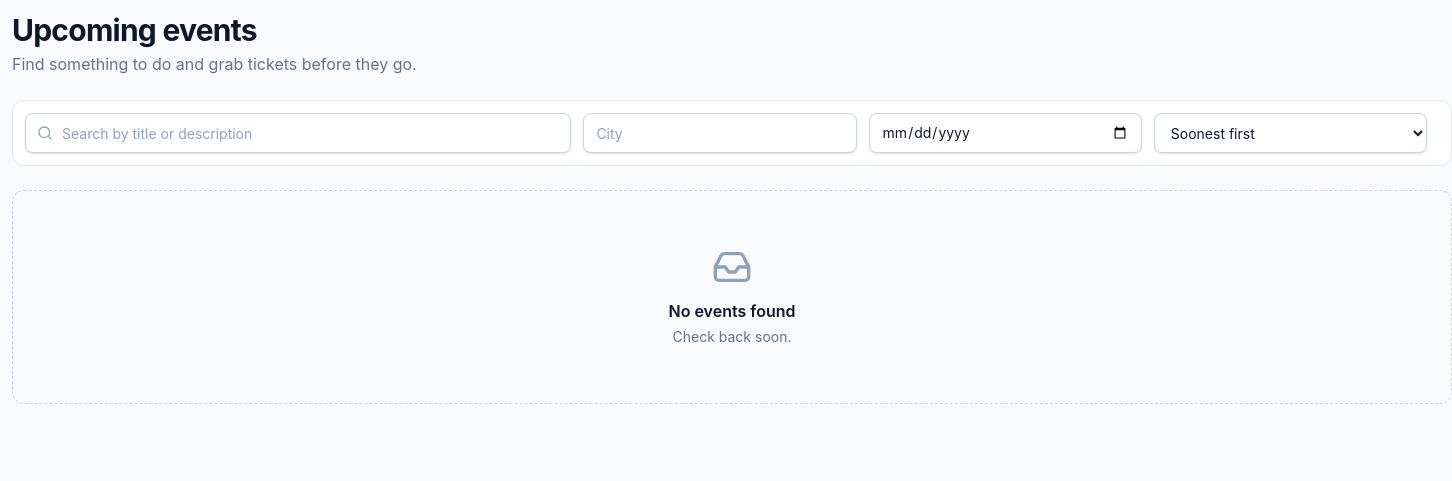
Test: EventsPage › sends the search term to the API after typing stops
Expected: the heading "No events found" is shown, [668,299,795,323]
Type "rock" into the field with placeholder "Search by title or description". click: (298, 133)
box: [25,113,571,153]
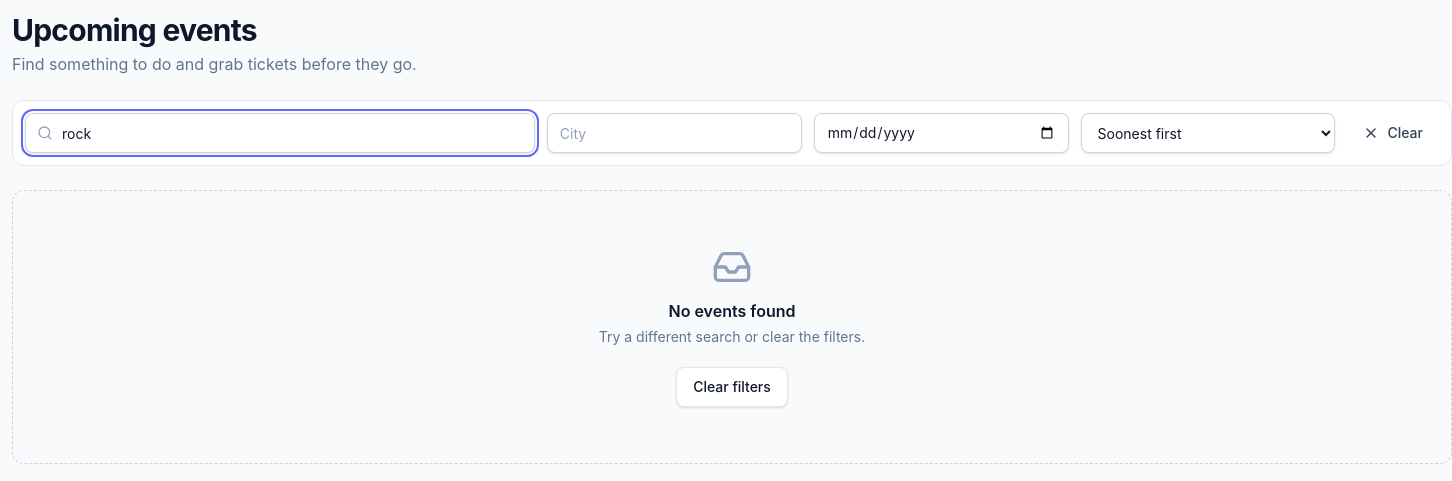
Now the text "Try a different search or clear the filters." is shown, box [599,327,865,347]
